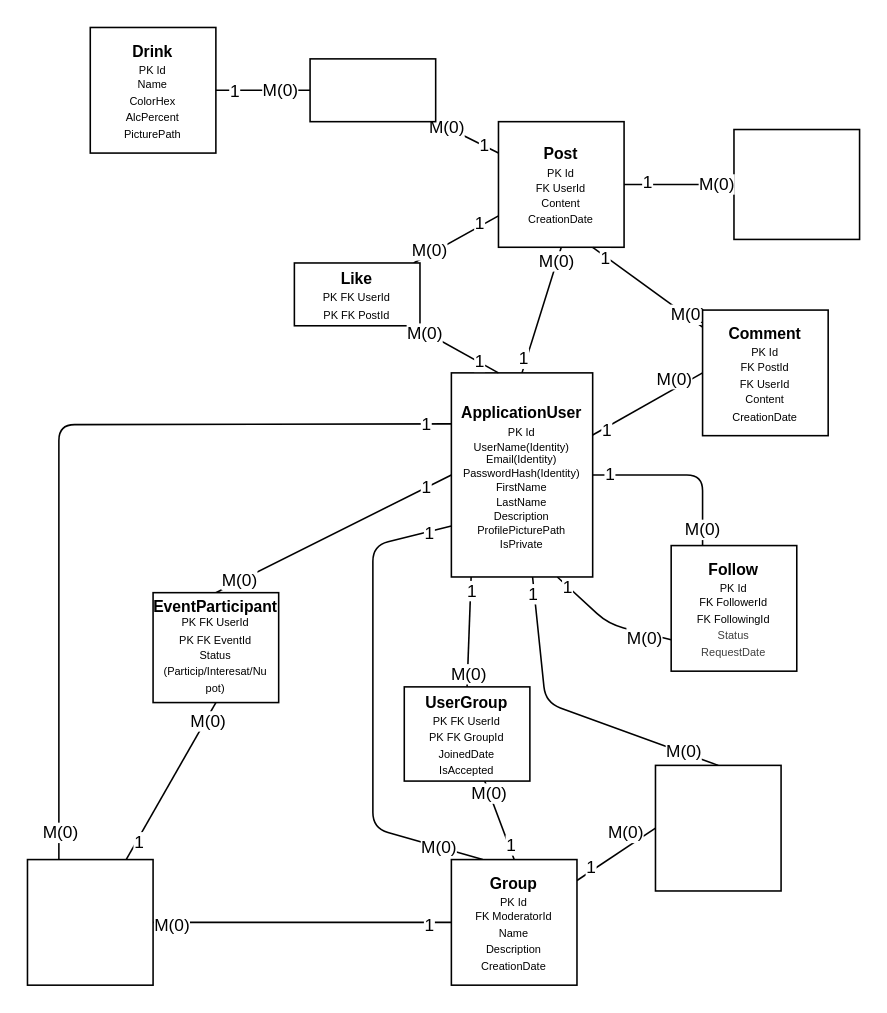
Some shapes in this 887 by 1013 pixel diagram are drawn without their labels. Here are the shapes that lost their labels. From the top down, the centre of each, then its label:
point (372, 89): PostDrink PK FK Drink PK FK PostId
point (796, 183): PostMedia PK Id FK PostId MediaType OrderIndex FilePath
point (717, 827): GroupMessage PK Id FK GroupId FK UserId Content SentDate
point (89, 921): Event PK Id FK GroupId FK CreatorId Title Description Location StartDate
